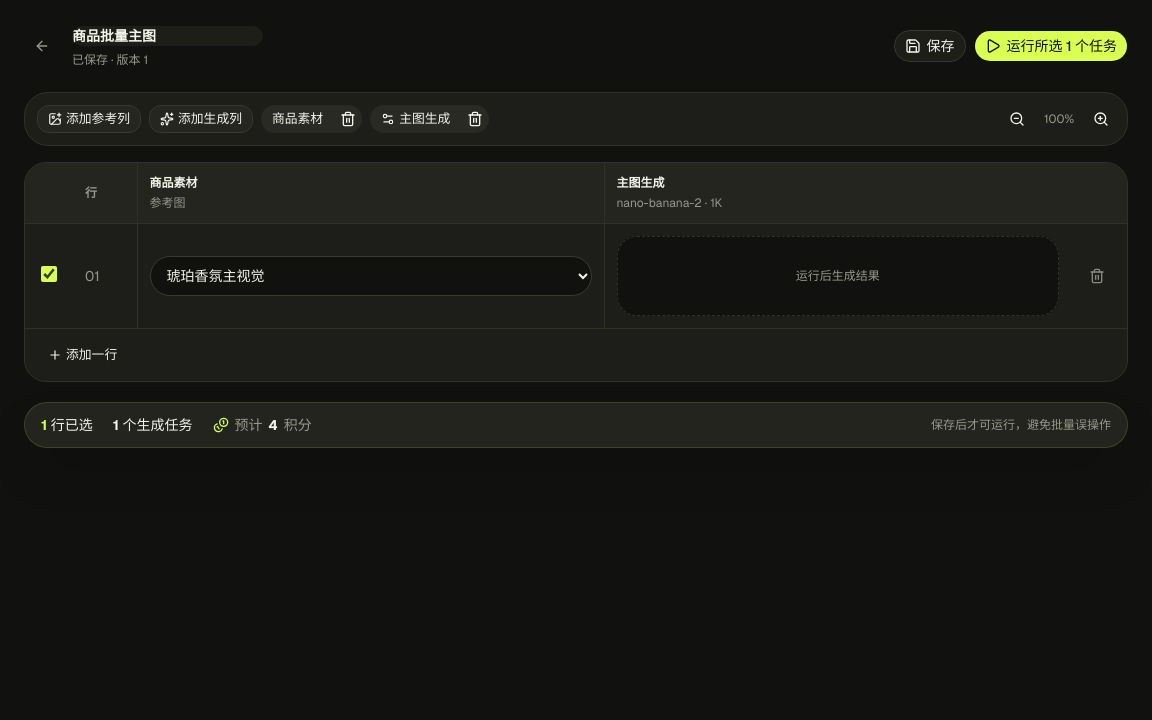
workflow editor › keeps the local draft and offers both resolutions on a version conflict
Expected: the text "已保存 · 版本 1" is shown, [72,52,148,68]
Replace the text in the field named "工作流名称" with "本地草稿" at (168, 36), box [72,26,263,46]
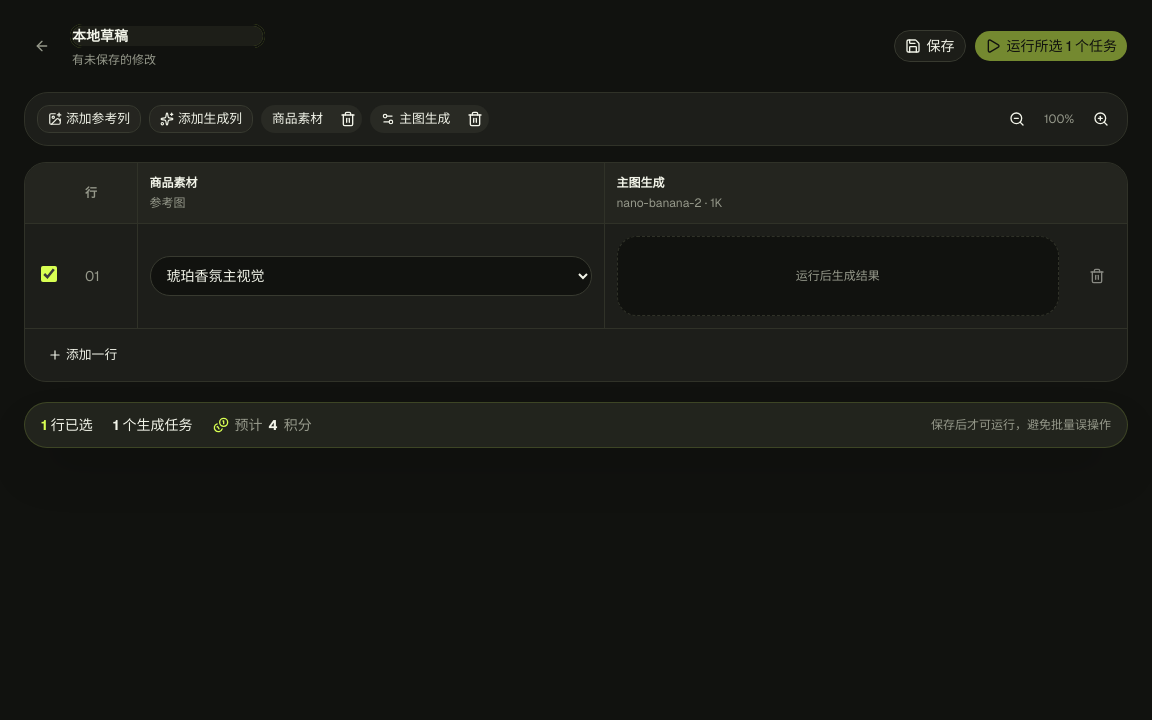
Click the button "保存" at (930, 46), box [894,30,966,62]
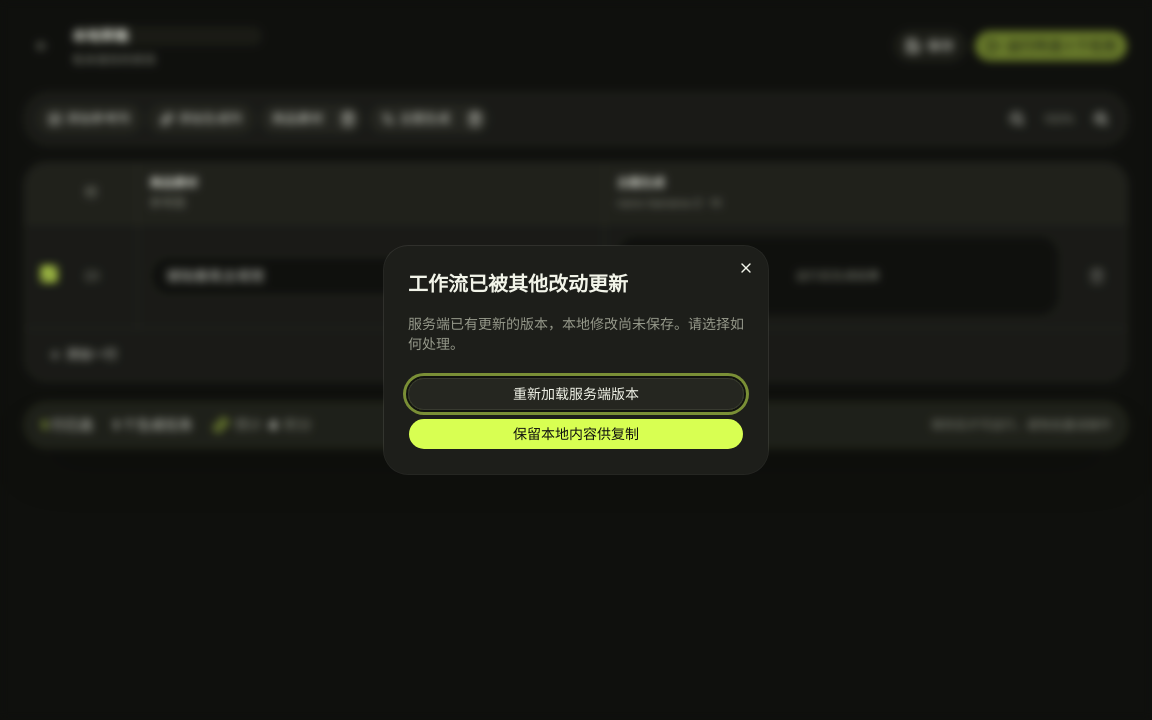
Expected: the heading "工作流已被其他改动更新" is shown, [408,271,628,297]
Expected: the button "重新加载服务端版本" is shown, [408,378,744,410]
Expected: the button "保留本地内容供复制" is shown, [408,418,744,450]
